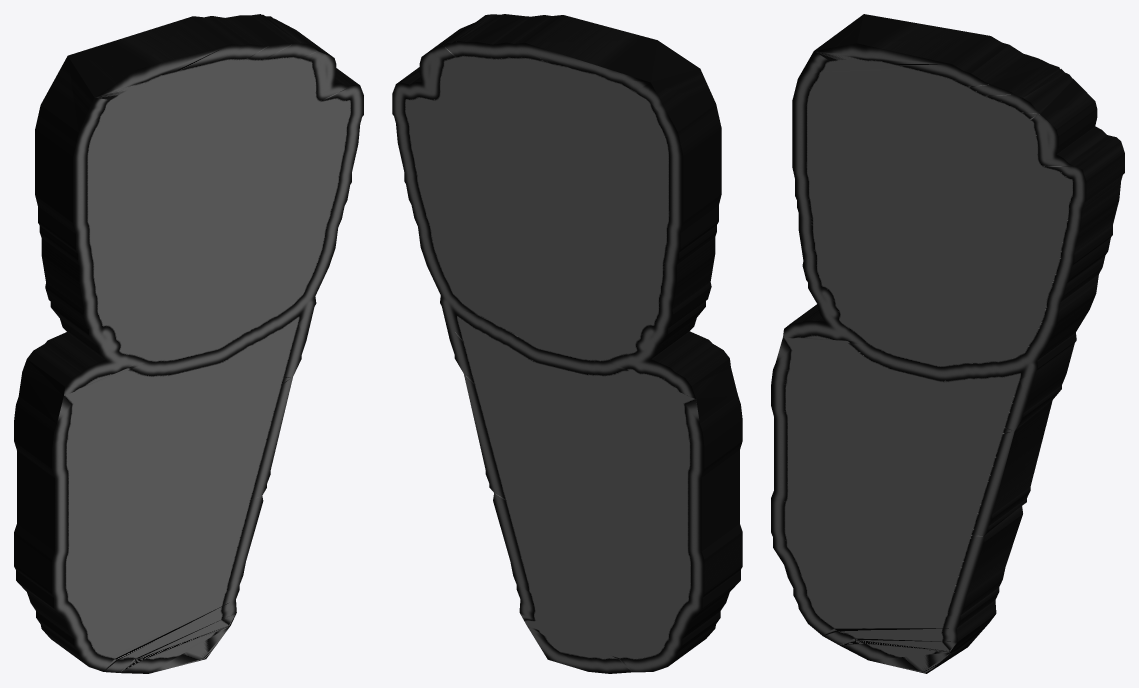
Rendered from tosche_station_terrain.obj.
3 renders of one model, left to right at view 1: azimuth 30°, elevation 25°; view 2: azimuth 150°, elevation 25°; view 3: azimuth 330°, elevation 25°, orthographic.
Visible parts, largest first — view 1: Object.1; view 2: Object.1; view 3: Object.1.
Part boxes in pixels (left/top/right/bottom): Object.1: left=14, top=14, right=363, bottom=673; Object.1: left=392, top=14, right=742, bottom=673; Object.1: left=771, top=14, right=1124, bottom=673.
Bounding box in the file's own units: 42.59 × 79.97 × 9.05.
1 material, 1 textured.
